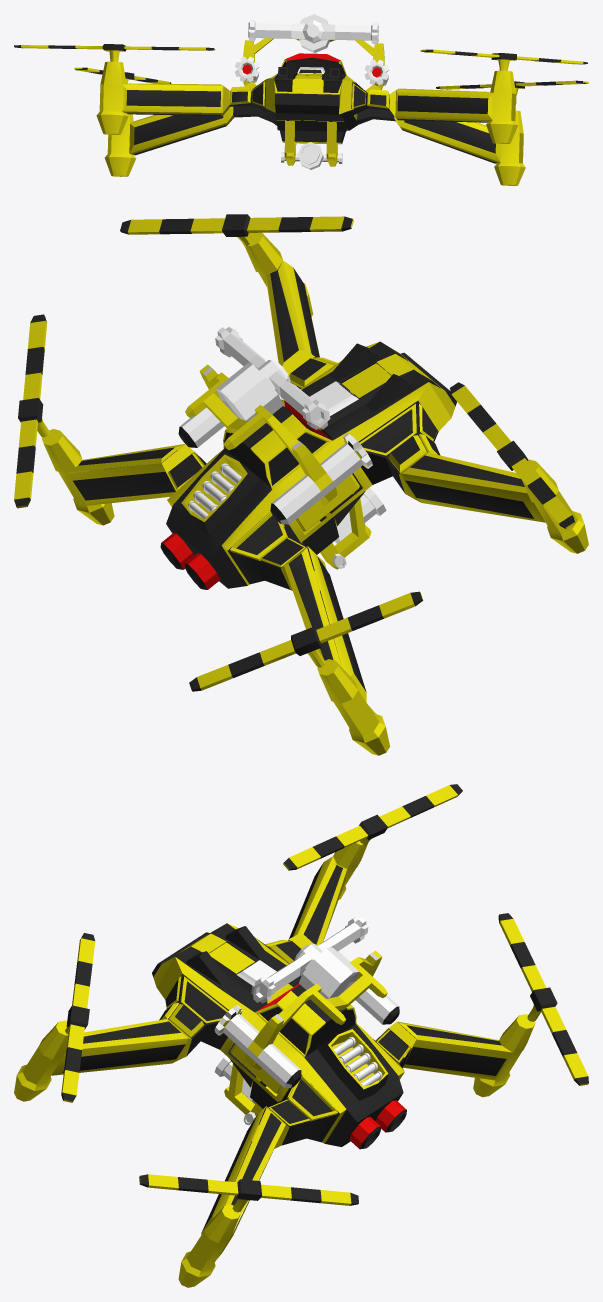
3 renders of one model, top to bottom at view 1: azimuth 30°, elevation 25°; view 2: azimuth 150°, elevation 25°; view 3: azimuth 270°, elevation 25°, orthographic. The views are drawn at different scales.
Parts seen in each view (by area): view 1: drone_costum_Cube_001, drone_costum_Cube, drone_costum_Cube_002, drone_costum_Cube_003, drone_costum_Cube_004; view 2: drone_costum_Cube_001, drone_costum_Cube_004, drone_costum_Cube_002, drone_costum_Cube_003, drone_costum_Cube; view 3: drone_costum_Cube_001, drone_costum_Cube_003, drone_costum_Cube_004, drone_costum_Cube, drone_costum_Cube_002.
Boxes of the visible parts, <box> form: drone_costum_Cube_001: <box>96,14,525,185</box>; drone_costum_Cube: <box>14,44,215,61</box>; drone_costum_Cube_002: <box>420,49,587,70</box>; drone_costum_Cube_003: <box>436,80,588,105</box>; drone_costum_Cube_004: <box>74,67,171,83</box>; drone_costum_Cube_001: <box>41,232,588,755</box>; drone_costum_Cube_004: <box>189,591,423,691</box>; drone_costum_Cube_002: <box>120,214,353,247</box>; drone_costum_Cube_003: <box>14,314,49,508</box>; drone_costum_Cube: <box>450,382,575,529</box>; drone_costum_Cube_001: <box>14,841,535,1287</box>; drone_costum_Cube_003: <box>139,1174,358,1212</box>; drone_costum_Cube_004: <box>498,913,588,1085</box>; drone_costum_Cube: <box>283,784,462,870</box>; drone_costum_Cube_002: <box>61,933,95,1102</box>.
Size of the model in its own units: 3470 by 1410 by 2717.
